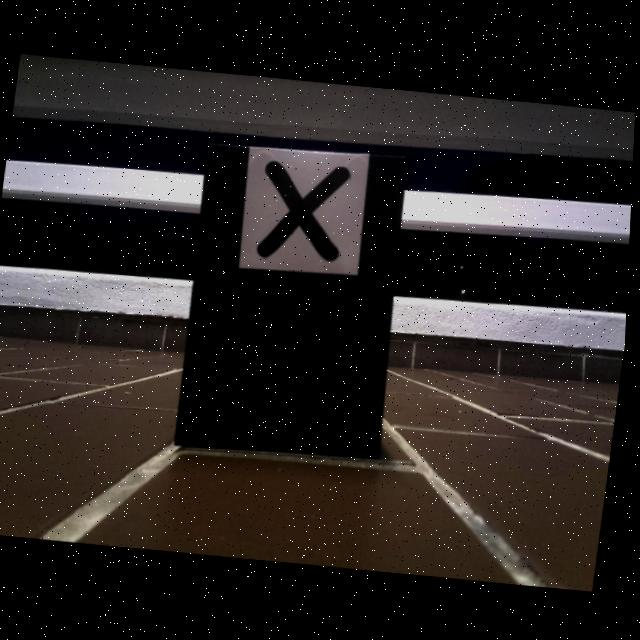X: (260, 161, 351, 261)
